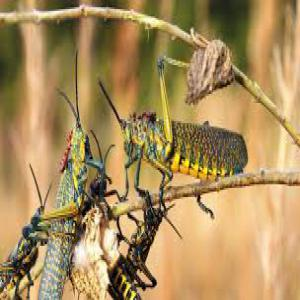locust: (93, 65, 245, 186), (35, 59, 89, 299)
